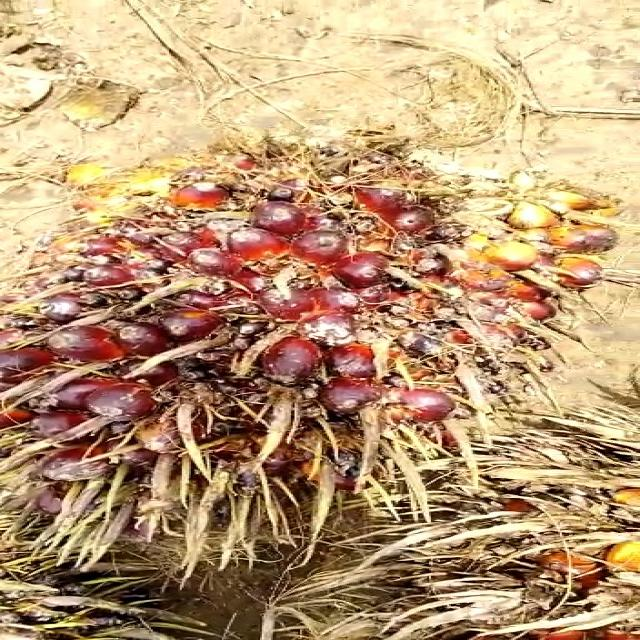palm oil: (5, 127, 626, 523)
